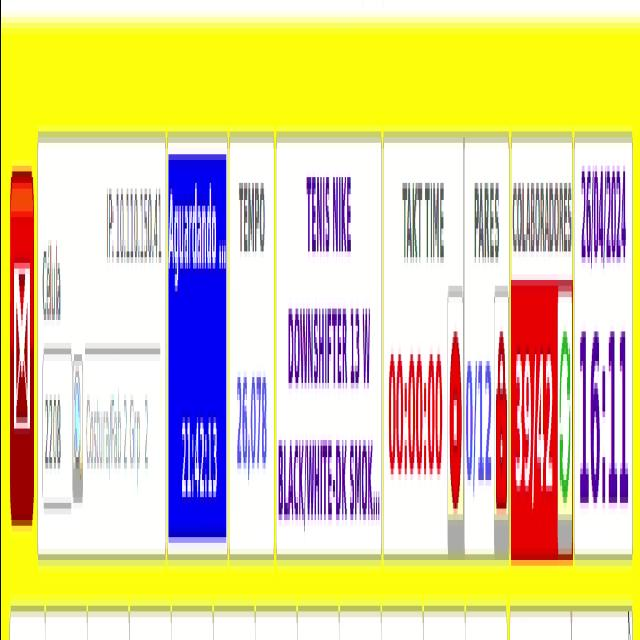takt_time: (385, 173, 445, 486)
